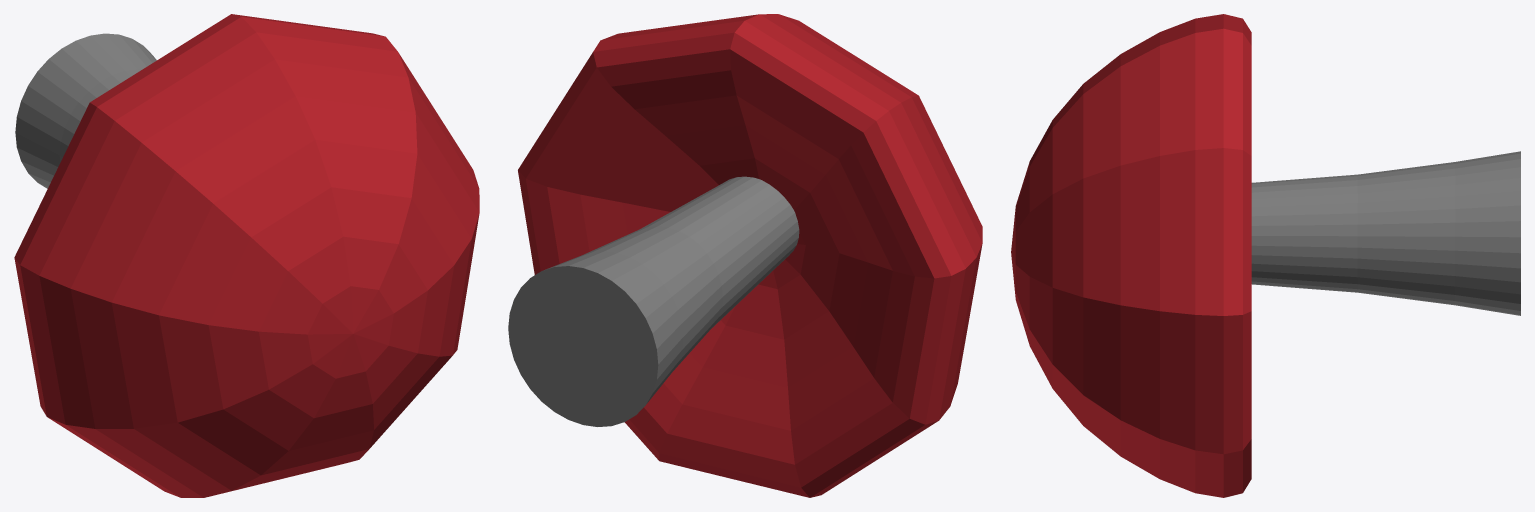
Rendered from mantar.fbx.
3 views of the same model, side by side, from view 1: azimuth 30°, elevation 25°; view 2: azimuth 150°, elevation 25°; view 3: azimuth 270°, elevation 25° (orthographic). The views are drawn at different scales.
Visible parts, largest first — view 1: Sphere.163; view 2: Sphere.163; view 3: Sphere.163.
Part boxes in pixels (box(x1,y1,x2,y2)): Sphere.163: box(14, 14, 479, 497); Sphere.163: box(508, 14, 982, 497); Sphere.163: box(1011, 14, 1520, 497).
Size of the model in its own units: 25.45 by 25.06 by 26.71.
